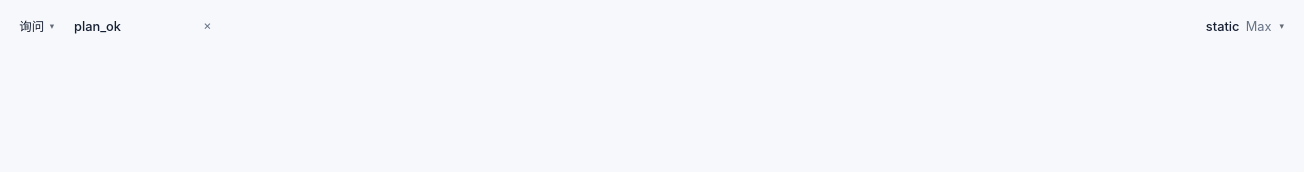
ChatSeats › surfaces patch errors and reverts plan draft
Replace the text in the field with test id "agent-chat-seat-plan" showing "×" with "plan_bad": point(131, 26) left=67, top=12, right=195, bottom=40
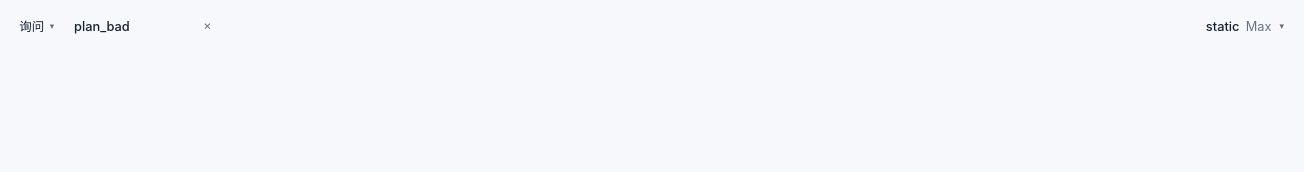
Leave the field with test id "agent-chat-seat-plan" showing "×", box left=67, top=12, right=195, bottom=40
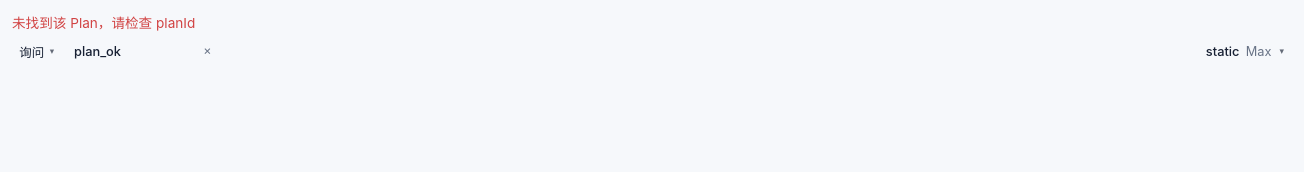
Result: the message with test id "agent-chat-seats-error" reads "未找到该 Plan，请检查 planId" at left=12, top=15, right=195, bottom=31
Result: the field with test id "agent-chat-seat-plan" holds "plan_ok" at left=67, top=38, right=195, bottom=66
